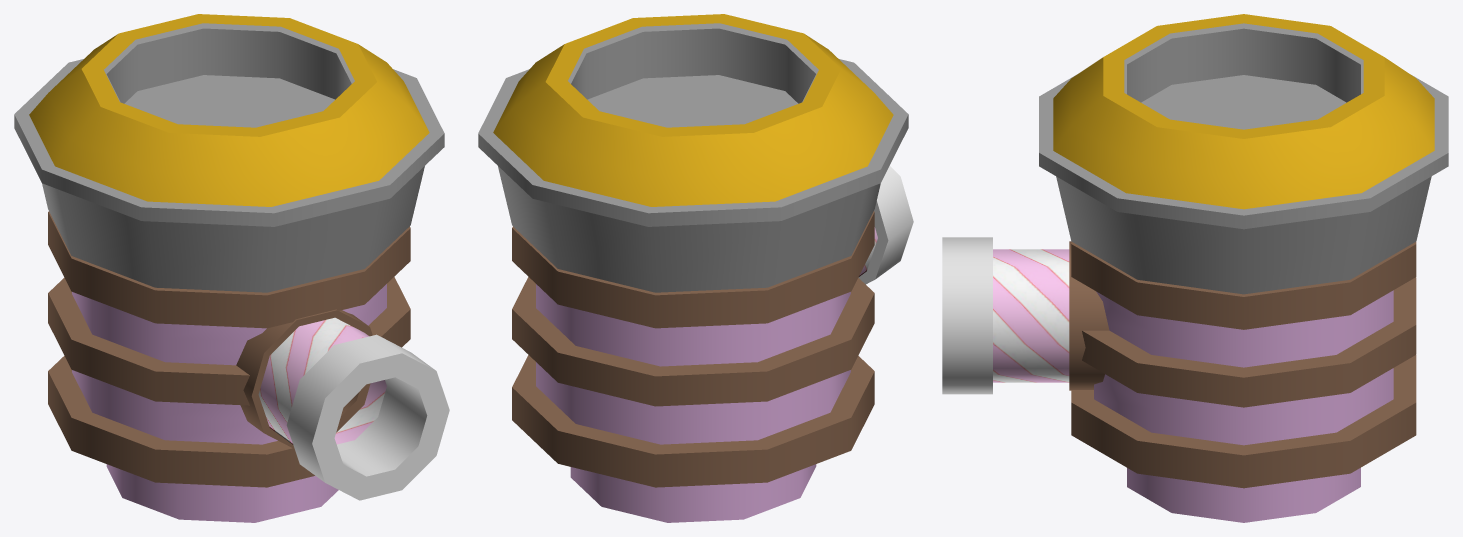
Rendered from turret.fbx.
The picture shows the model from 3 angles, left to right: view 1: azimuth 30°, elevation 25°; view 2: azimuth 150°, elevation 25°; view 3: azimuth 270°, elevation 25°; orthographic projection.
Visible parts, largest first — view 1: pPipe5, pPipe2, pCylinder5; view 2: pPipe5, pPipe2, pCylinder5; view 3: pPipe5, pPipe2, pCylinder5.
Part boxes in pixels (x1=…): pPipe5: x1=14, y1=14, x2=444, y2=292; pPipe2: x1=48, y1=211, x2=410, y2=522; pCylinder5: x1=258, y1=317, x2=449, y2=500; pPipe5: x1=478, y1=14, x2=908, y2=292; pPipe2: x1=512, y1=211, x2=874, y2=522; pCylinder5: x1=858, y1=166, x2=913, y2=284; pPipe5: x1=1039, y1=14, x2=1448, y2=294; pPipe2: x1=1069, y1=241, x2=1416, y2=522; pCylinder5: x1=942, y1=237, x2=1069, y2=394.
Size of the model in its own units: 237 by 240 by 279.
7 materials, 1 textured.
